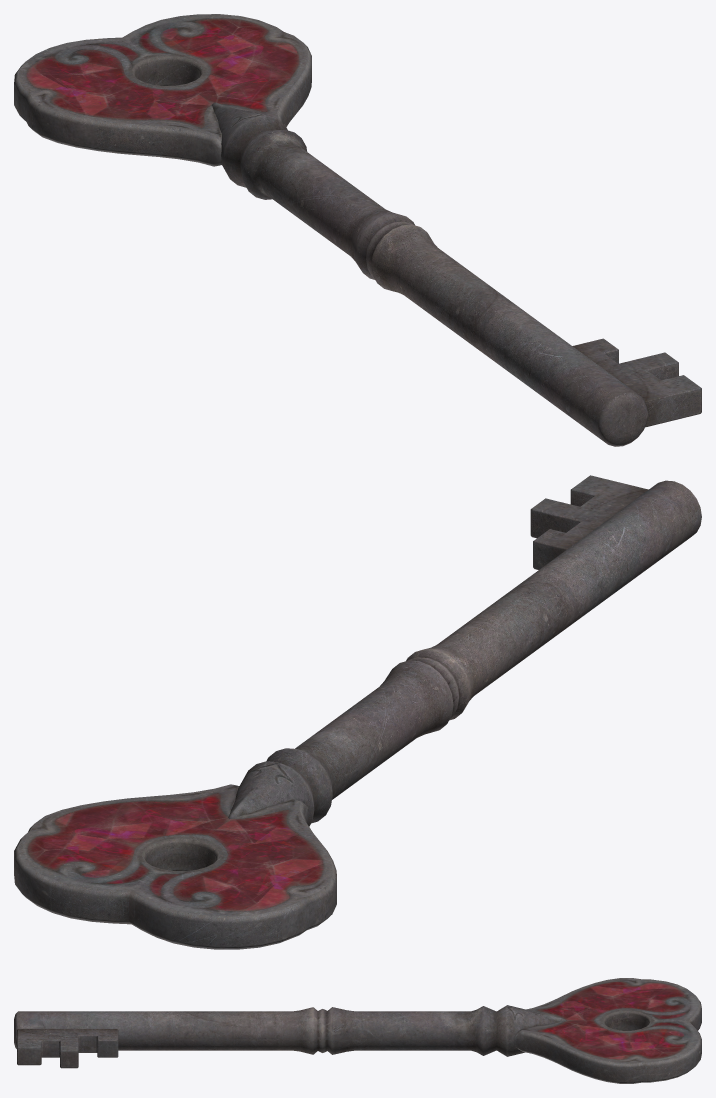
The model's file is 404_heartkey01a.fbx.
3 renders of one model, top to bottom at view 1: azimuth 30°, elevation 25°; view 2: azimuth 150°, elevation 25°; view 3: azimuth 270°, elevation 25°, orthographic. The views are drawn at different scales.
Parts seen in each view (by area): view 1: LOD_1_Group_0_Sub_1__sm73_404_HeartKey01A_A_Mat, LOD_1_Group_1_Sub_1__sm73_404_HeartKey01A_A_Mat, LOD_1_Group_2_Sub_1__sm73_404_HeartKey01A_A_Mat; view 2: LOD_1_Group_0_Sub_1__sm73_404_HeartKey01A_A_Mat, LOD_1_Group_1_Sub_1__sm73_404_HeartKey01A_A_Mat, LOD_1_Group_2_Sub_1__sm73_404_HeartKey01A_A_Mat; view 3: LOD_1_Group_1_Sub_1__sm73_404_HeartKey01A_A_Mat, LOD_1_Group_0_Sub_1__sm73_404_HeartKey01A_A_Mat, LOD_1_Group_2_Sub_1__sm73_404_HeartKey01A_A_Mat.
Part boxes in pixels (<box>): LOD_1_Group_0_Sub_1__sm73_404_HeartKey01A_A_Mat: <box>14,14,311,166</box>; LOD_1_Group_1_Sub_1__sm73_404_HeartKey01A_A_Mat: <box>211,102,647,446</box>; LOD_1_Group_2_Sub_1__sm73_404_HeartKey01A_A_Mat: <box>572,338,701,427</box>; LOD_1_Group_0_Sub_1__sm73_404_HeartKey01A_A_Mat: <box>14,784,336,949</box>; LOD_1_Group_1_Sub_1__sm73_404_HeartKey01A_A_Mat: <box>228,480,701,826</box>; LOD_1_Group_2_Sub_1__sm73_404_HeartKey01A_A_Mat: <box>530,475,648,569</box>; LOD_1_Group_1_Sub_1__sm73_404_HeartKey01A_A_Mat: <box>14,1005,566,1056</box>; LOD_1_Group_0_Sub_1__sm73_404_HeartKey01A_A_Mat: <box>514,978,701,1083</box>; LOD_1_Group_2_Sub_1__sm73_404_HeartKey01A_A_Mat: <box>17,1029,118,1068</box>.
Size of the model in its own units: 0.0346 by 0.0087 by 0.1146.
